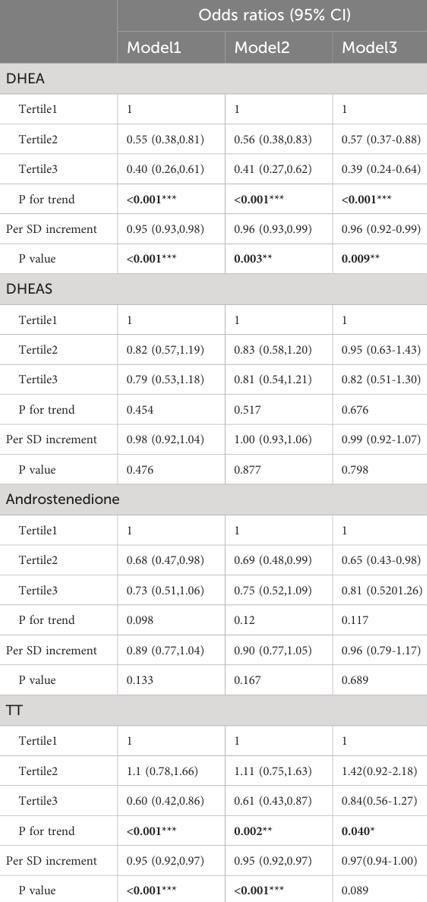table: (5, 5, 422, 896)
table column: (110, 5, 218, 896), (218, 5, 326, 896), (5, 5, 110, 896), (326, 5, 422, 896)
table column header: (5, 5, 422, 62)
table projected row header: (5, 272, 422, 304), (5, 693, 422, 725), (5, 62, 422, 93), (5, 483, 422, 514)
table row: (5, 30, 422, 62), (5, 272, 422, 304), (5, 693, 422, 725), (5, 62, 422, 93), (5, 483, 422, 514), (5, 93, 422, 123), (5, 123, 422, 153), (5, 153, 422, 183), (5, 183, 422, 213), (5, 213, 422, 243), (5, 304, 422, 334), (5, 334, 422, 364), (5, 364, 422, 394), (5, 423, 422, 453), (5, 453, 422, 483), (5, 514, 422, 544), (5, 544, 422, 574), (5, 574, 422, 604), (5, 604, 422, 634), (5, 634, 422, 664), (5, 725, 422, 755), (5, 755, 422, 785), (5, 785, 422, 815), (5, 815, 422, 845), (5, 845, 422, 875), (5, 243, 422, 272), (5, 394, 422, 423), (5, 664, 422, 693), (5, 5, 422, 30), (5, 875, 422, 896)
table spanning cell: (110, 5, 422, 30)
